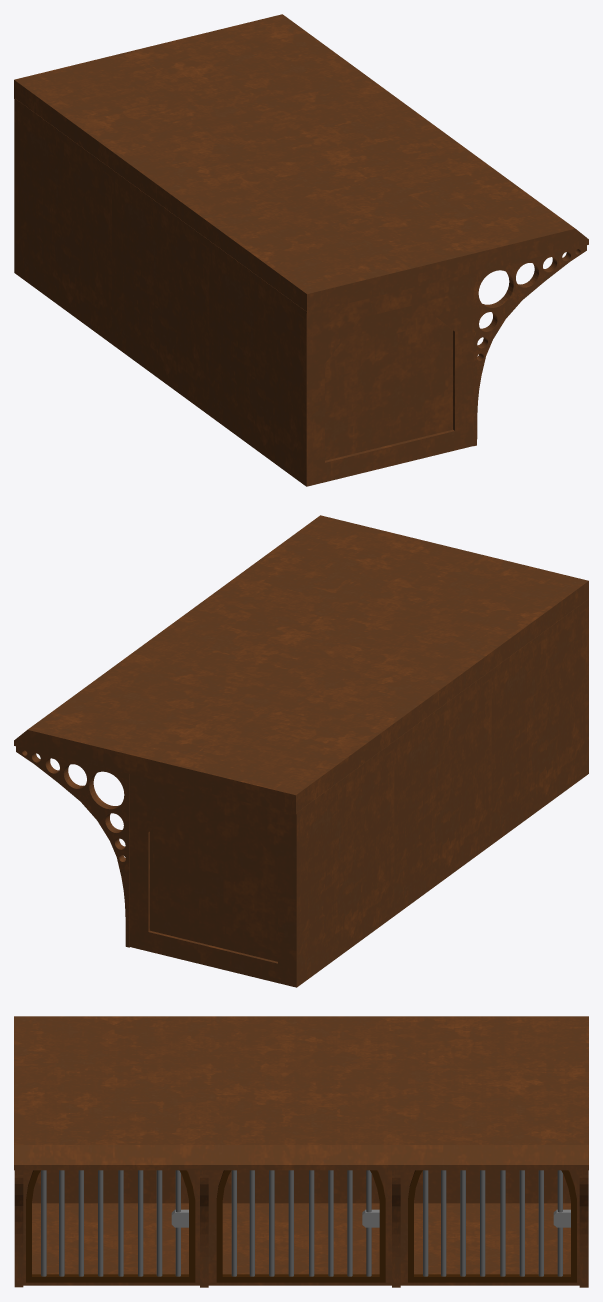
The model's file is 3 small cages.glb.
3 views of the same model, one above another, from view 1: azimuth 30°, elevation 25°; view 2: azimuth 150°, elevation 25°; view 3: azimuth 270°, elevation 25° (orthographic).
Visible parts, largest first — view 1: Cube.104, Cube.093, Cube.099, Cube.096, Cube.102; view 2: Cube.104, Cube.099, Cube.093, Cube.096, Cube.105; view 3: Cube.104, Cube.096, Cube.099, Cube.093, Cube.098, Cube.095, Cube.101, Cube.105, Cube.102, Cube.077, Cube.103, Cylinder.154 (+23 smaller).
Boxes of the visible parts, bbox=[...] form: Cube.104: bbox=[14, 14, 588, 313]; Cube.093: bbox=[209, 241, 473, 486]; Cube.099: bbox=[14, 98, 111, 343]; Cube.096: bbox=[112, 169, 209, 415]; Cube.102: bbox=[473, 245, 586, 446]; Cube.104: bbox=[14, 515, 588, 814]; Cube.099: bbox=[129, 741, 394, 987]; Cube.093: bbox=[491, 599, 588, 844]; Cube.096: bbox=[394, 670, 491, 915]; Cube.105: bbox=[16, 746, 129, 947]; Cube.104: bbox=[14, 1016, 588, 1170]; Cube.096: bbox=[208, 1170, 391, 1285]; Cube.099: bbox=[400, 1170, 579, 1285]; Cube.093: bbox=[23, 1170, 199, 1285]; Cube.098: bbox=[216, 1170, 385, 1282]; Cube.095: bbox=[26, 1170, 195, 1282]; Cube.101: bbox=[408, 1170, 576, 1282]; Cube.105: bbox=[579, 1170, 588, 1287]; Cube.102: bbox=[14, 1170, 23, 1287]; Cube.077: bbox=[392, 1170, 400, 1287]; Cube.103: bbox=[200, 1170, 208, 1287]; Cylinder.154: bbox=[156, 1170, 162, 1276].
Size of the model in its own units: 10.74 by 7.03 by 19.32.
4 materials, 4 textured.
